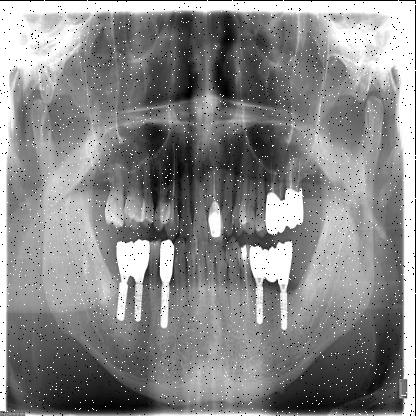ITI: (118, 277, 130, 323), (133, 278, 145, 323)
